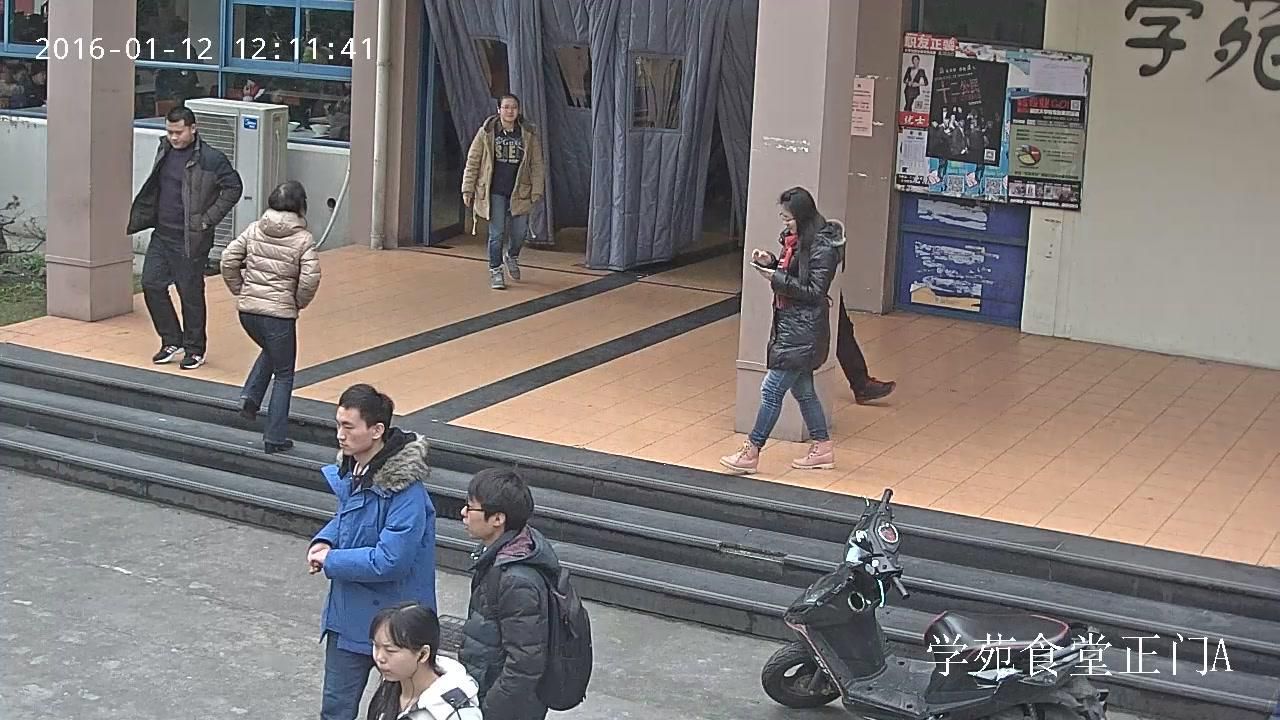person: (306, 385, 437, 720), (719, 187, 847, 472), (459, 468, 592, 720), (124, 105, 242, 369), (220, 179, 321, 453), (461, 93, 543, 289), (349, 601, 484, 720), (155, 16, 200, 101), (7, 62, 46, 110), (902, 54, 928, 111)
